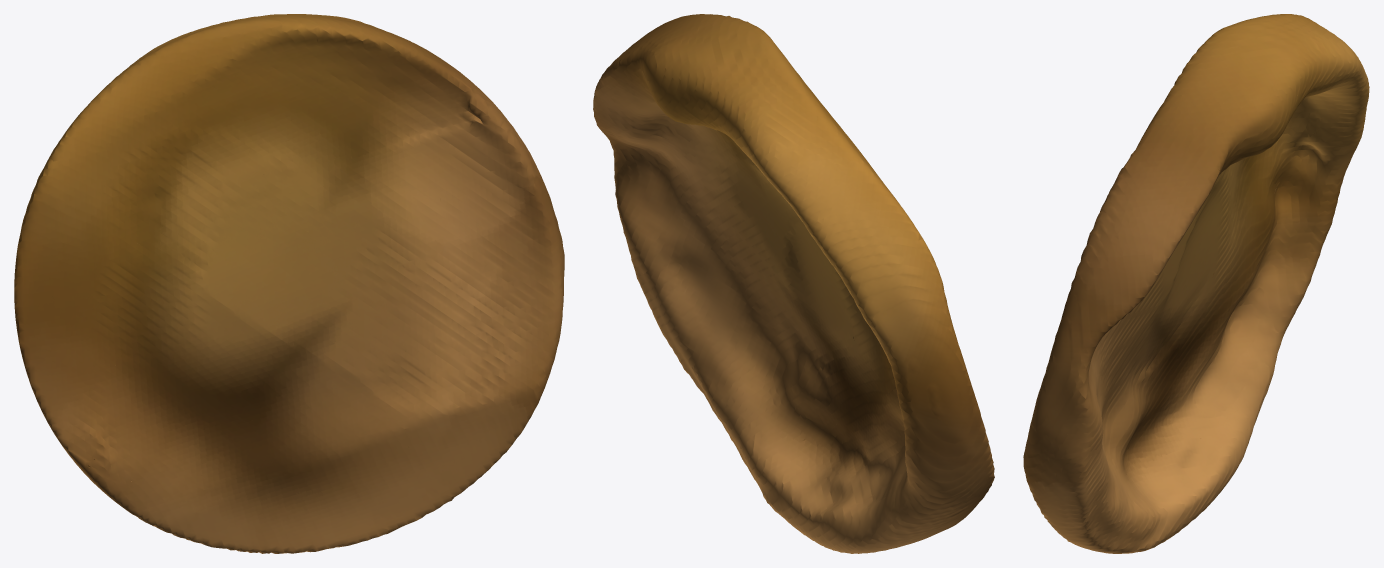
Rendered from dough.fbx.
3 views of the same model, side by side, from view 1: azimuth 30°, elevation 25°; view 2: azimuth 150°, elevation 25°; view 3: azimuth 270°, elevation 25° (orthographic). The views are drawn at different scales.
Parts seen in each view (by area): view 1: Layer_1; view 2: Layer_1; view 3: Layer_1.
Boxes of the visible parts, left/top/right/bottom form: Layer_1: left=14, top=14, right=564, bottom=553; Layer_1: left=593, top=14, right=994, bottom=553; Layer_1: left=1023, top=14, right=1369, bottom=553.
Bounding box in the file's own units: 0.6158 × 0.3965 × 0.6516.
